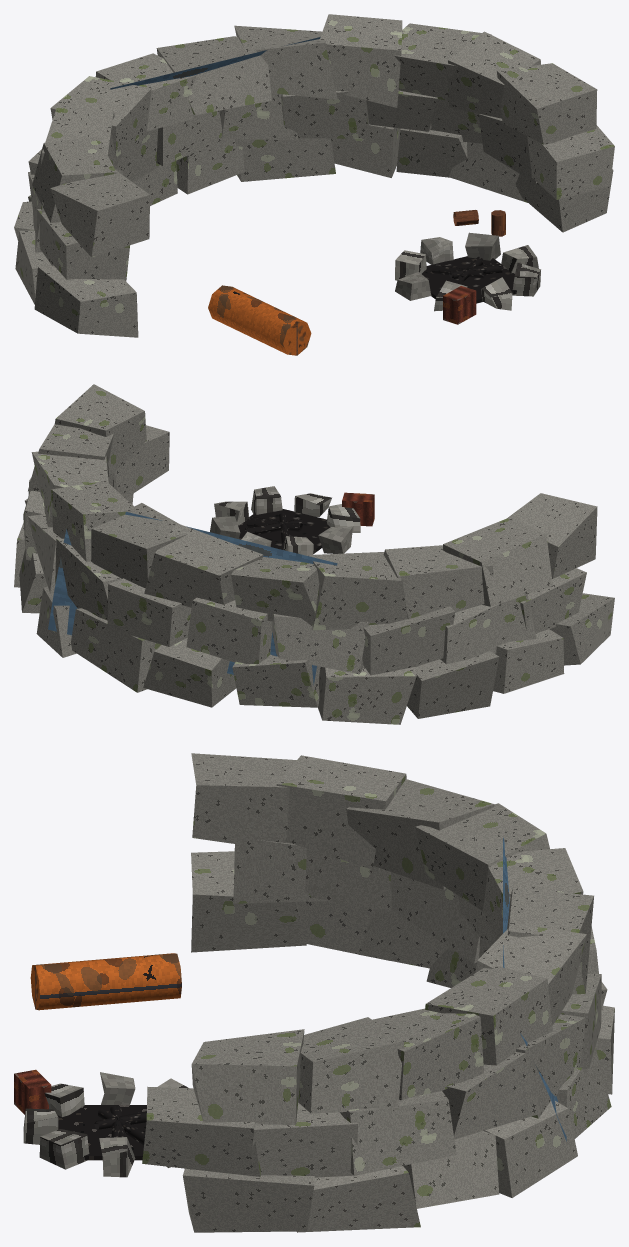
The model's file is prop_bivouac.glb.
The picture shows the model from 3 angles, top to bottom: view 1: azimuth 30°, elevation 25°; view 2: azimuth 150°, elevation 25°; view 3: azimuth 270°, elevation 25°; orthographic projection. The views are drawn at different scales.
Parts seen in each view (by area): view 1: prop_bivouac; view 2: prop_bivouac; view 3: prop_bivouac.
Part boxes in pixels (x1,y1,x2,y2): prop_bivouac: (14, 14, 614, 355); prop_bivouac: (14, 384, 614, 724); prop_bivouac: (14, 753, 614, 1232).
Size of the model in its own units: 3.31 by 0.8462 by 2.49.
Materials: 7 (7 with a texture image).
